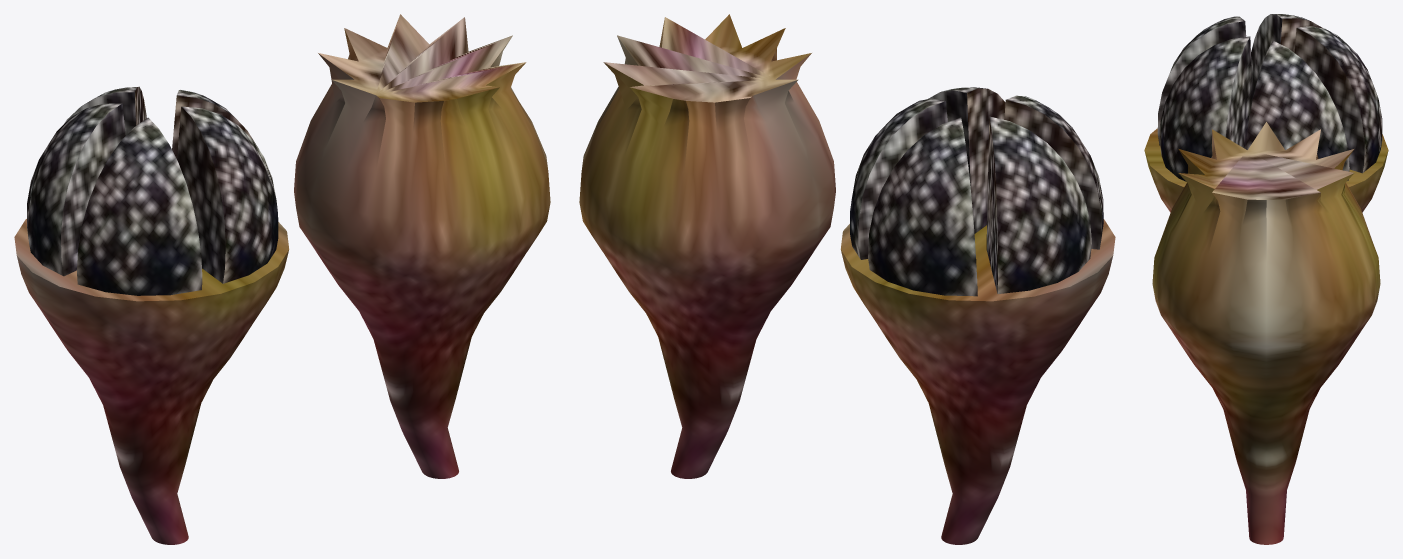
The model's file is Cengkodok.fbx.
3 views of the same model, side by side, from view 1: azimuth 30°, elevation 25°; view 2: azimuth 150°, elevation 25°; view 3: azimuth 270°, elevation 25° (orthographic). The views are drawn at different scales.
Parts seen in each view (by area): view 1: Cengkodok a, Cengkodok b; view 2: Cengkodok a, Cengkodok b; view 3: Cengkodok b, Cengkodok a.
Part boxes in pixels (left/top/right/bottom): Cengkodok a: left=14, top=86, right=289, bottom=544; Cengkodok b: left=294, top=14, right=550, bottom=478; Cengkodok a: left=840, top=87, right=1115, bottom=544; Cengkodok b: left=579, top=14, right=835, bottom=478; Cengkodok b: left=1152, top=122, right=1380, bottom=544; Cengkodok a: left=1144, top=14, right=1388, bottom=212.
Bounding box in the file's own units: 487 × 405 × 232.
